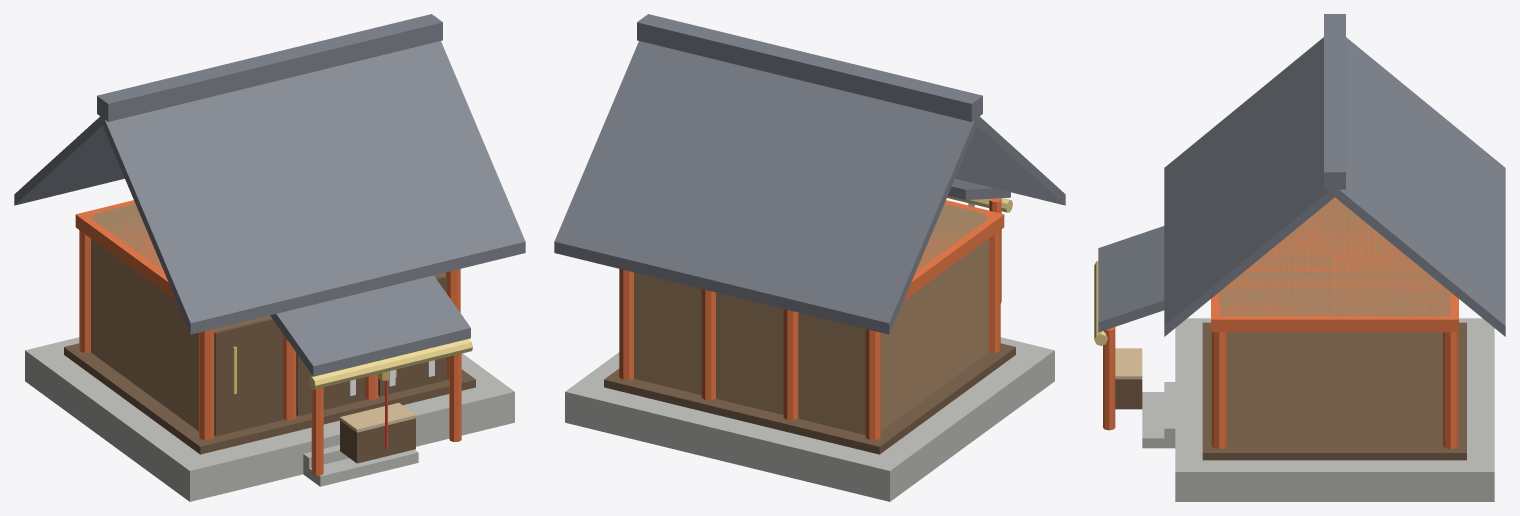
The model's file is honden.glb.
The picture shows the model from 3 angles, left to right: view 1: azimuth 30°, elevation 25°; view 2: azimuth 150°, elevation 25°; view 3: azimuth 270°, elevation 25°; orthographic projection. The views are drawn at different scales.
Parts seen in each view (by area): view 1: honden; view 2: honden; view 3: honden.
Part boxes in pixels (<box>): honden: <box>14,14,525,501</box>; honden: <box>554,14,1065,501</box>; honden: <box>1094,14,1505,501</box>.
Size of the model in its own units: 6.8 by 6.65 by 7.47.
